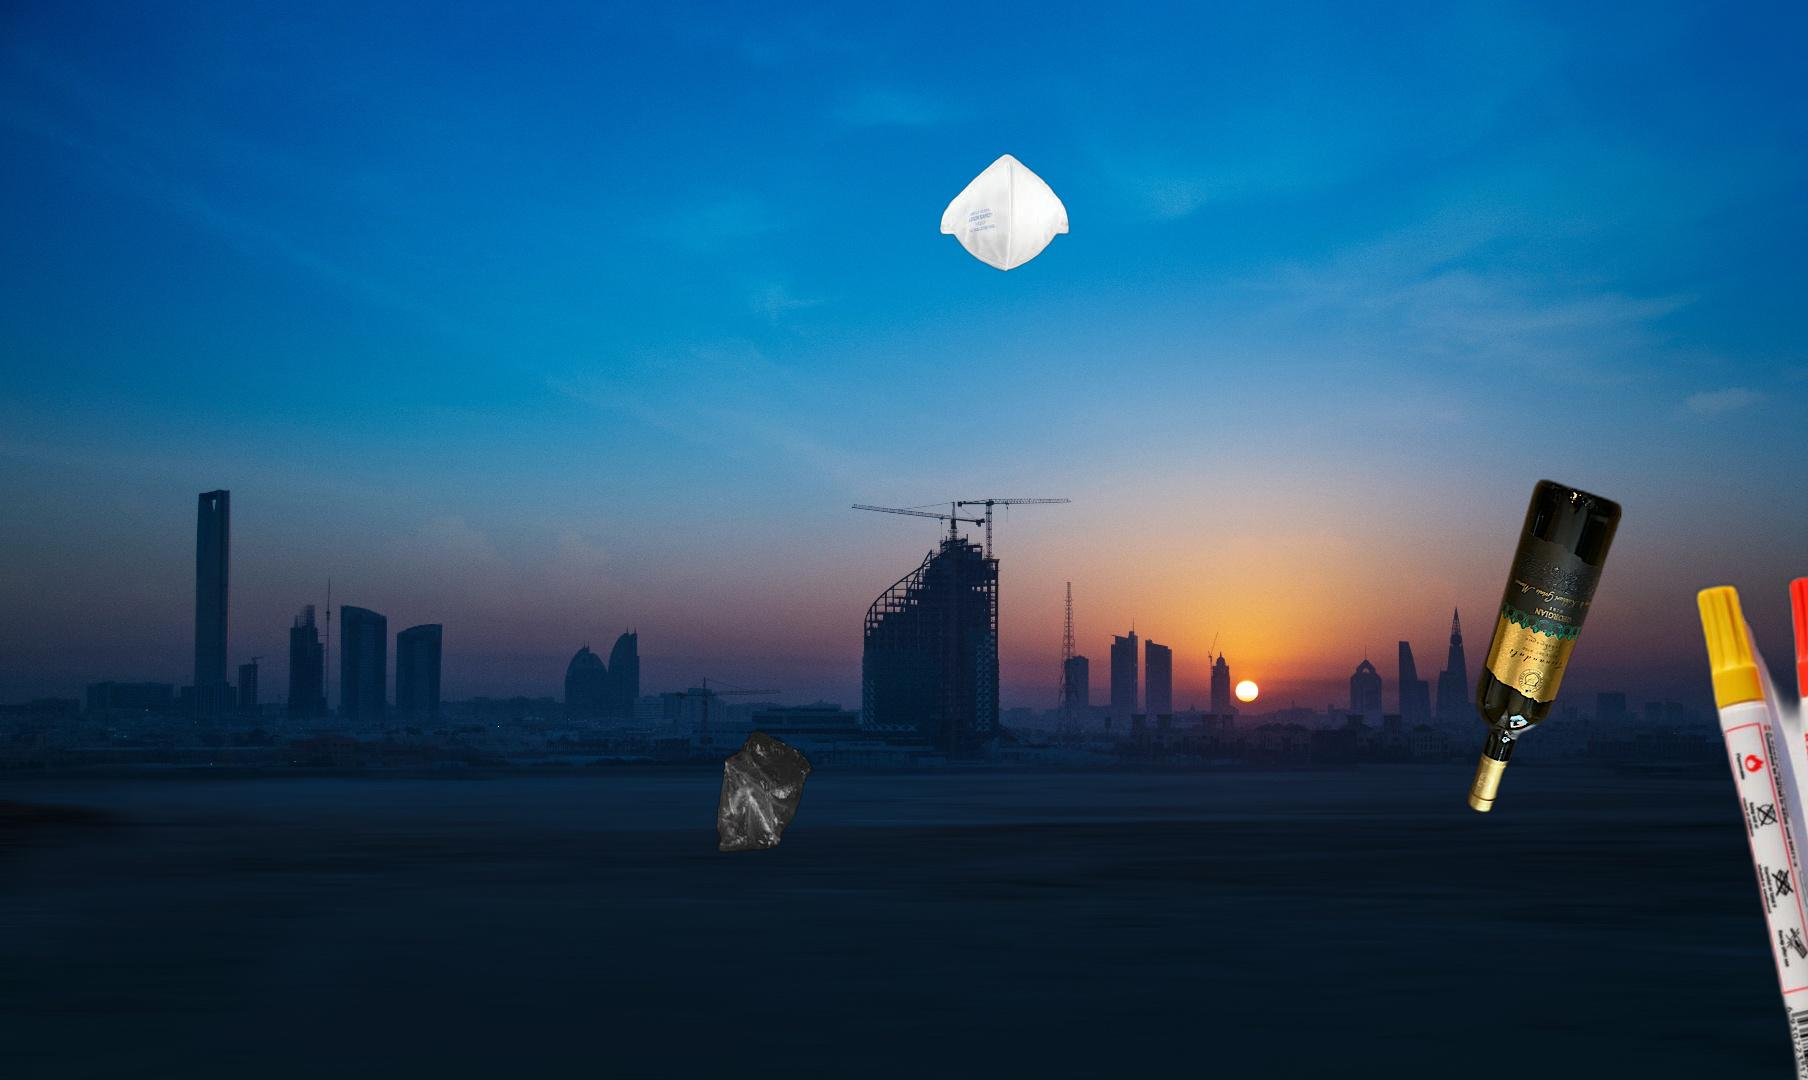glass: (1464, 473, 1626, 818)
penholder: (1688, 447, 1808, 1080)
plastic-bag: (714, 728, 816, 955)
trash: (937, 150, 1072, 274)
